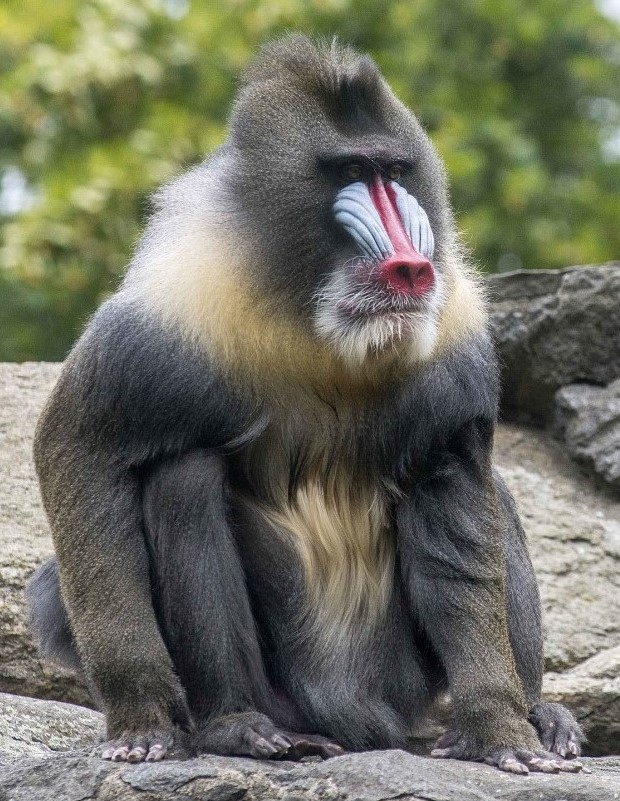Mandrill: (66, 29, 509, 739)
